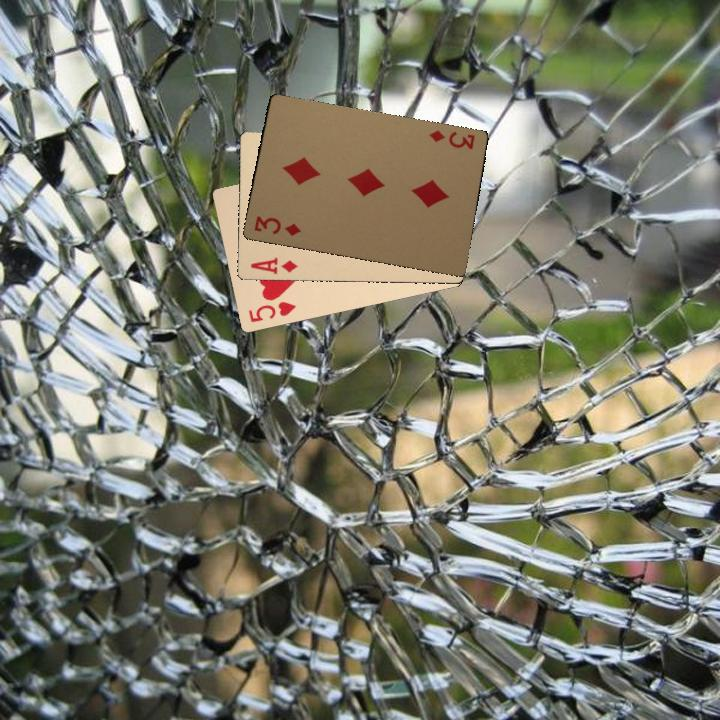3d: (250, 212, 303, 239), (425, 126, 477, 152)
5h: (244, 297, 298, 325)
Ad: (247, 254, 299, 277)
